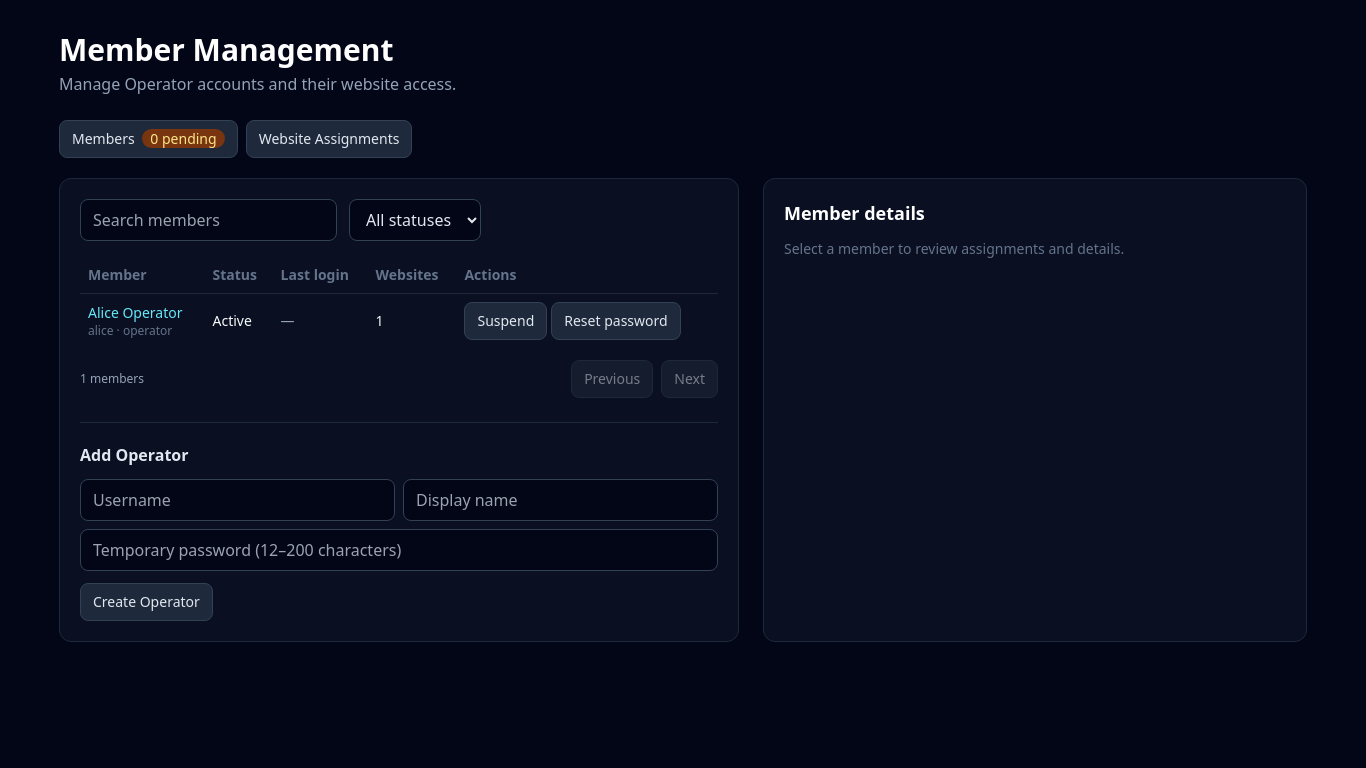
Test case: MembersPage behavioral regressions (F-03 & F-09) › preserves form input and displays error message when member creation fails (Finding 1)
Expected: the button "Alice Operator" is shown, [88,303,182,323]
Type "taken_user" into the field with placeholder "Username". click: (238, 500)
box: [80,479,395,521]
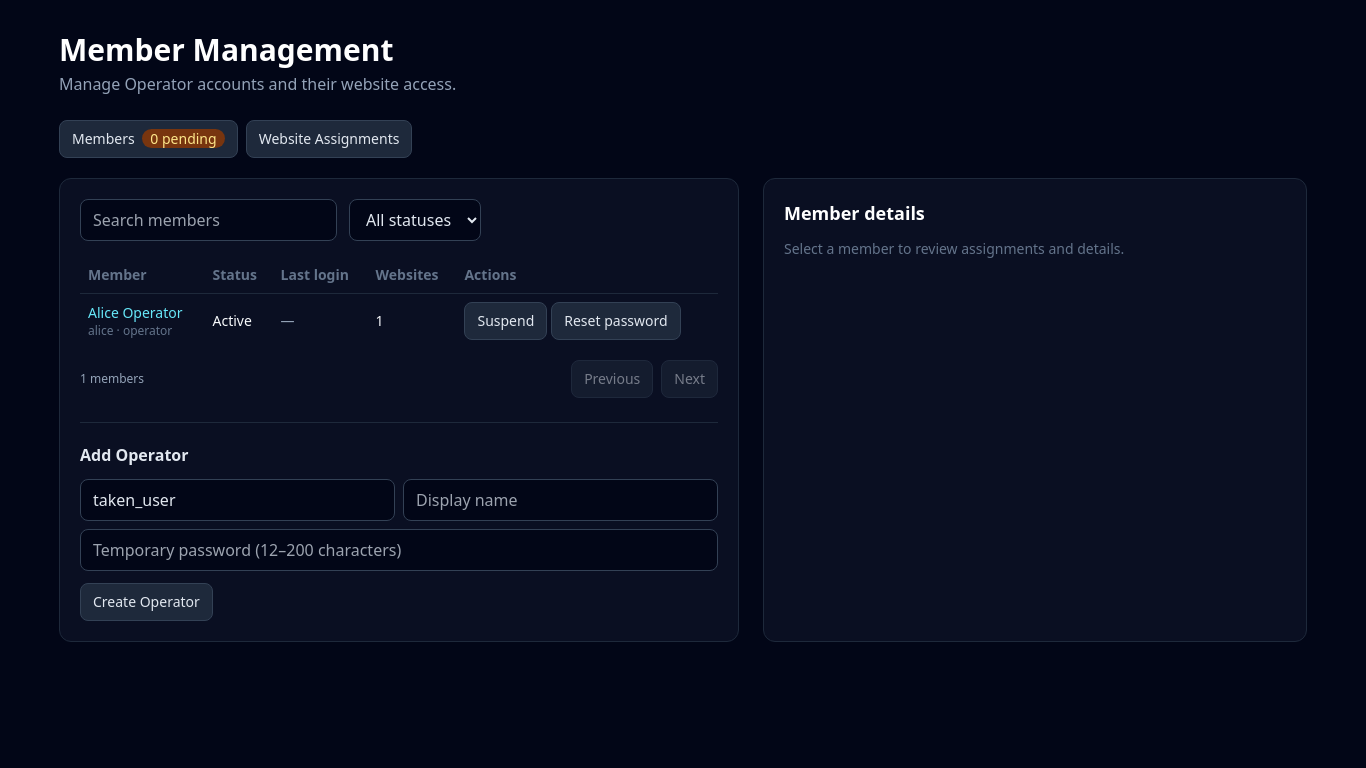
Type "Taken User" into the field with placeholder "Display name". click: (560, 500)
box: [403,479,718,521]
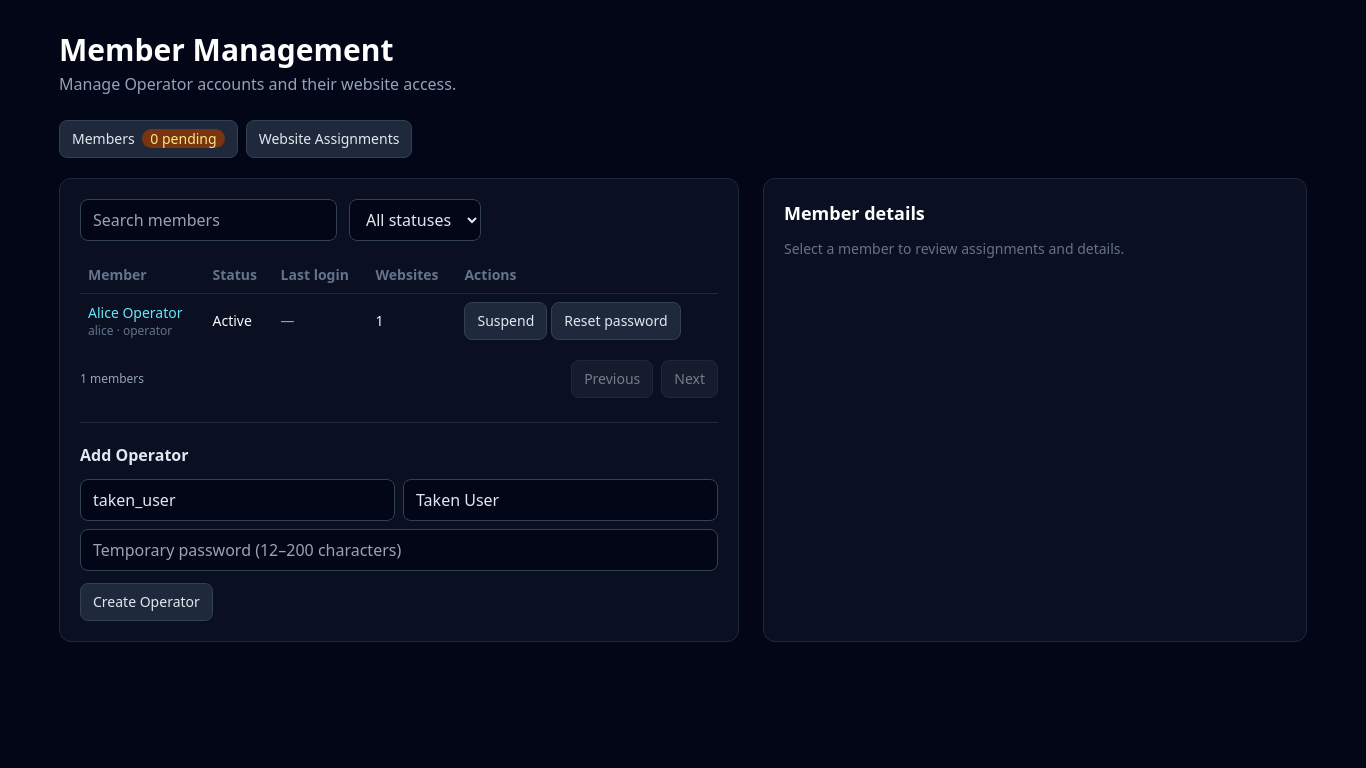
Type "VerySecurePass123!" into the password field with placeholder "Temporary password (12–200 characters)". click: (399, 550)
box: [80,529,718,571]
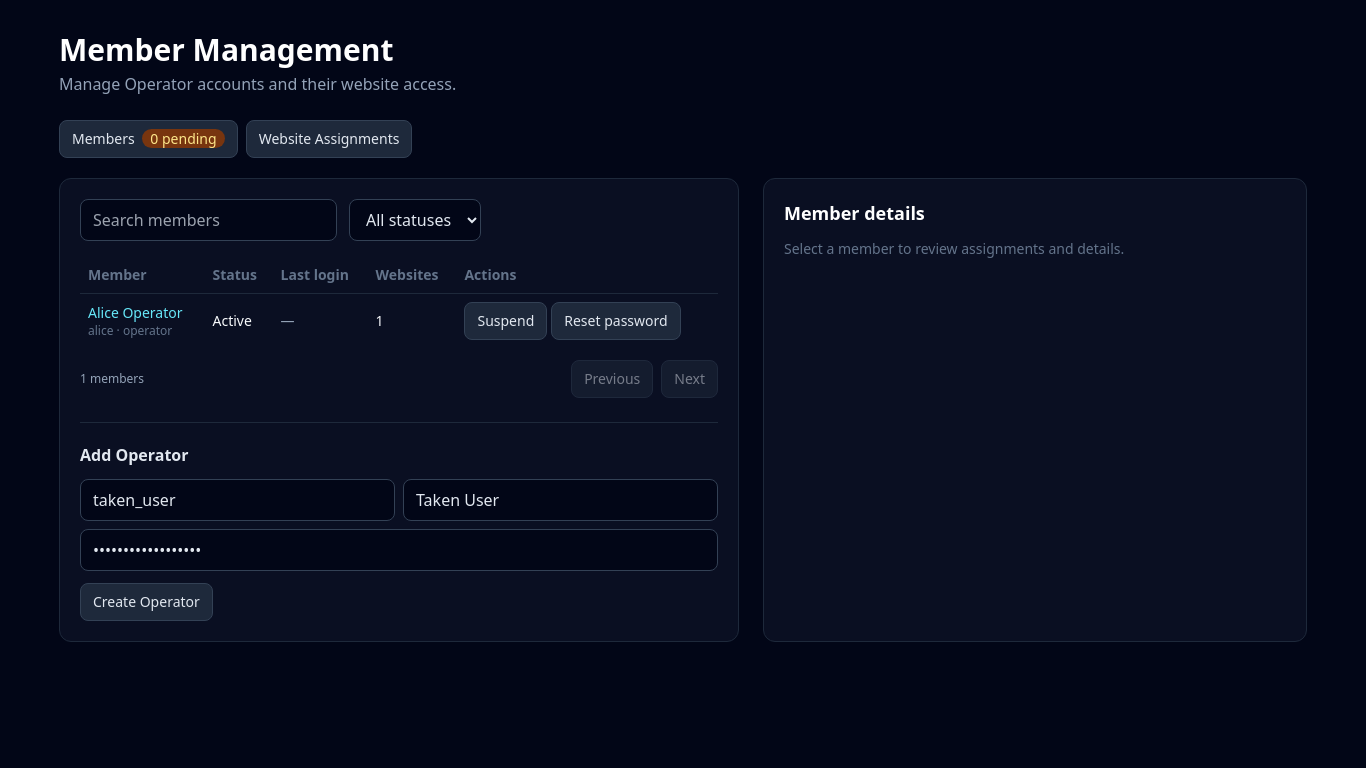
Click the button "Create Operator". click: (146, 602)
box: [80,583,213,621]
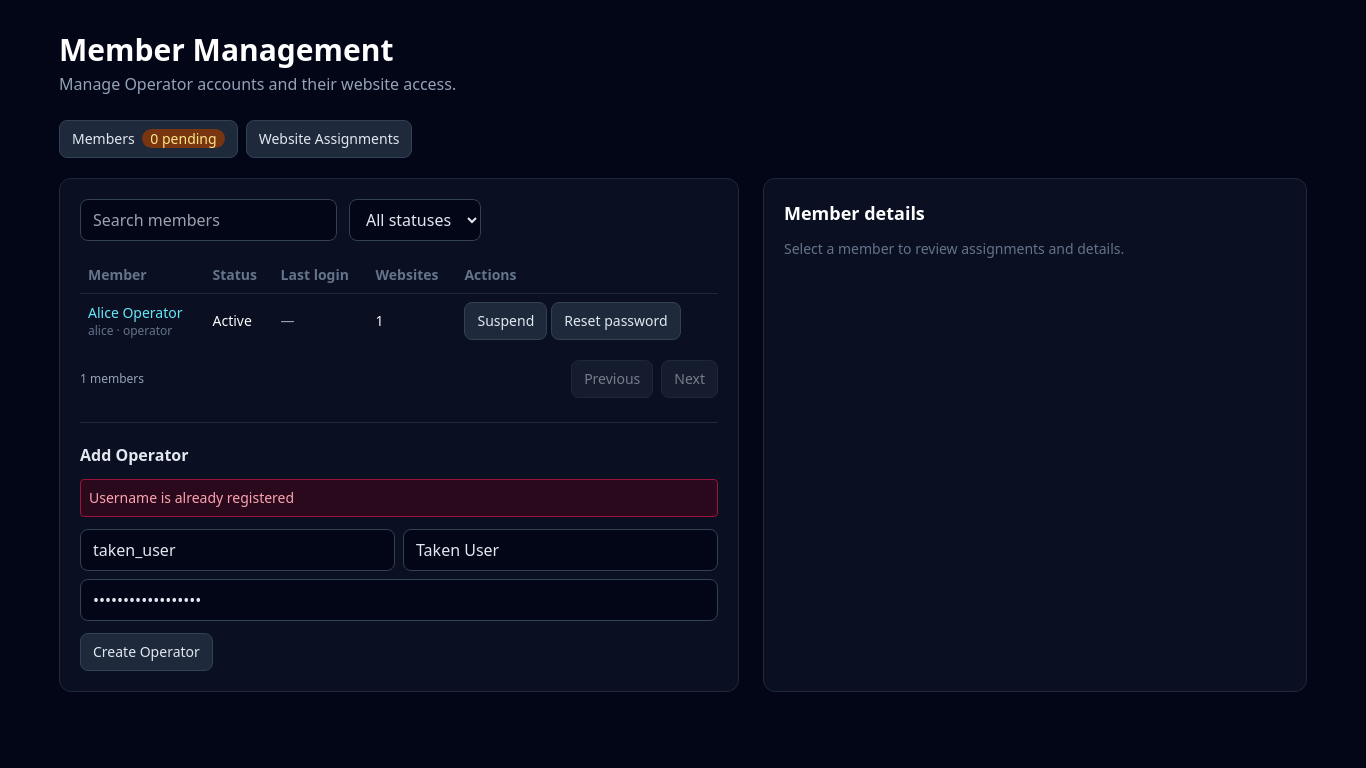
Result: the text "Username is already registered" is shown at [80,479,718,517]
